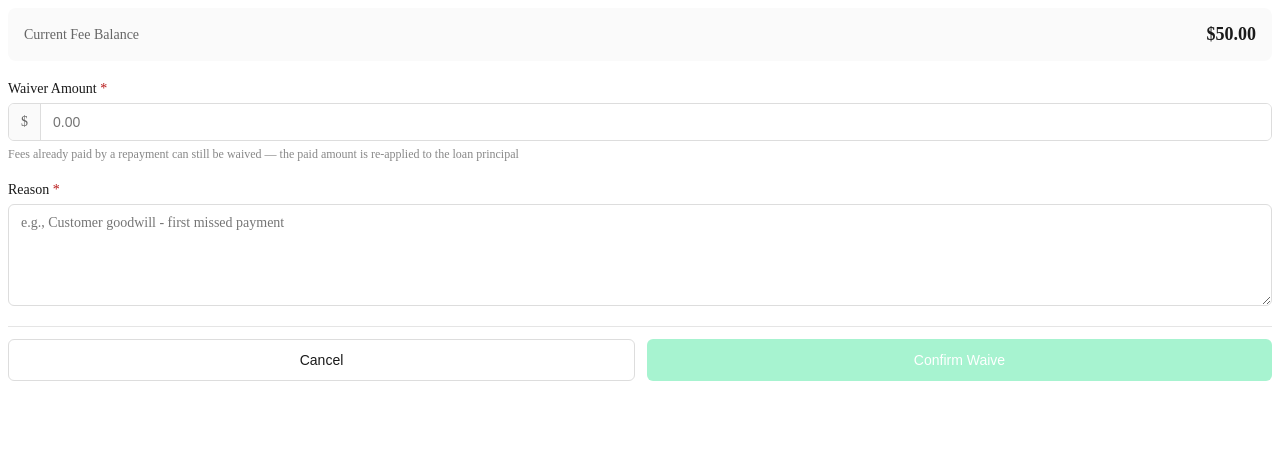
it: WaiveFeeDrawer › validation › should show error for invalid amount
Type "-5" into the number field labelled "Waiver Amount *".
click(656, 122); type("-5")  # box top-left (41, 104), bottom-right (1271, 140)
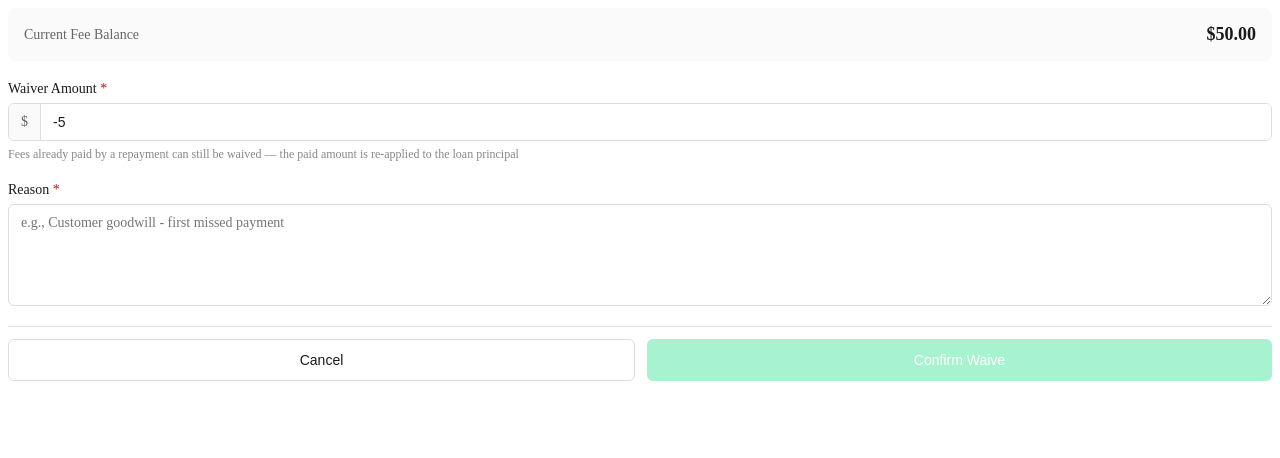
Type "Test reason" into the text box labelled "Reason *".
click(640, 255); type("Test reason")  # box top-left (8, 204), bottom-right (1272, 306)
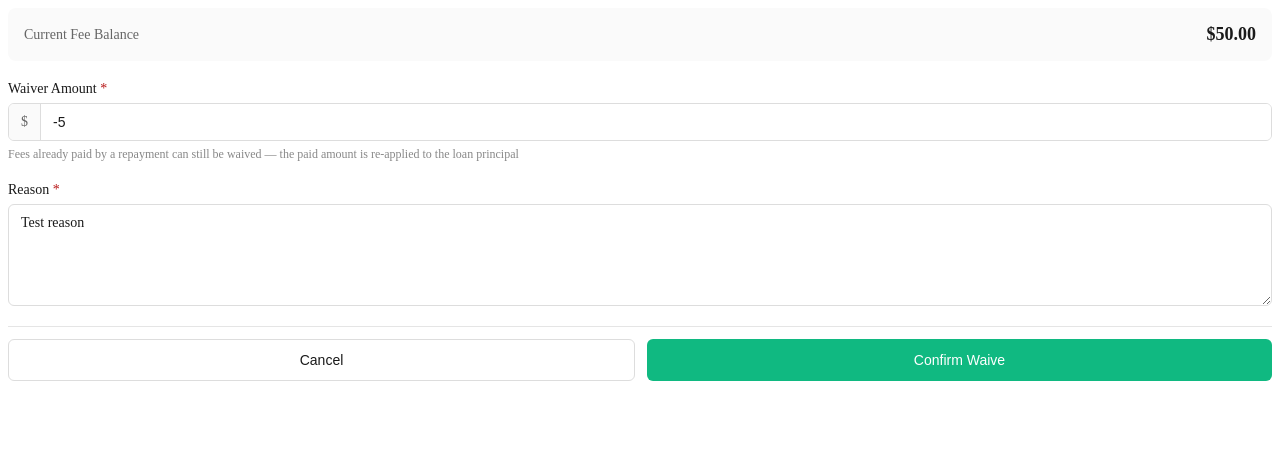
Submit the form
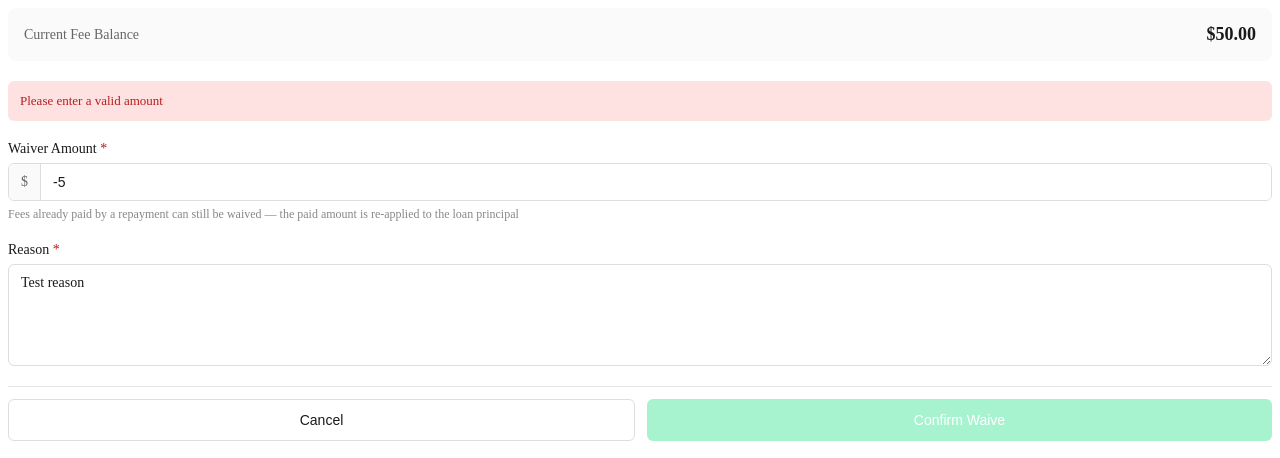
Check: the message "Please enter a valid amount" is shown, box top-left (8, 81), bottom-right (1272, 121)
